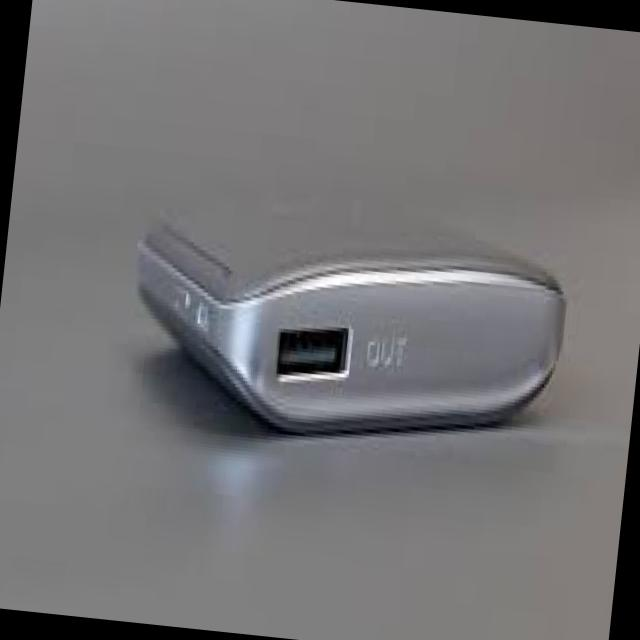portable-charger: (124, 180, 579, 467)
